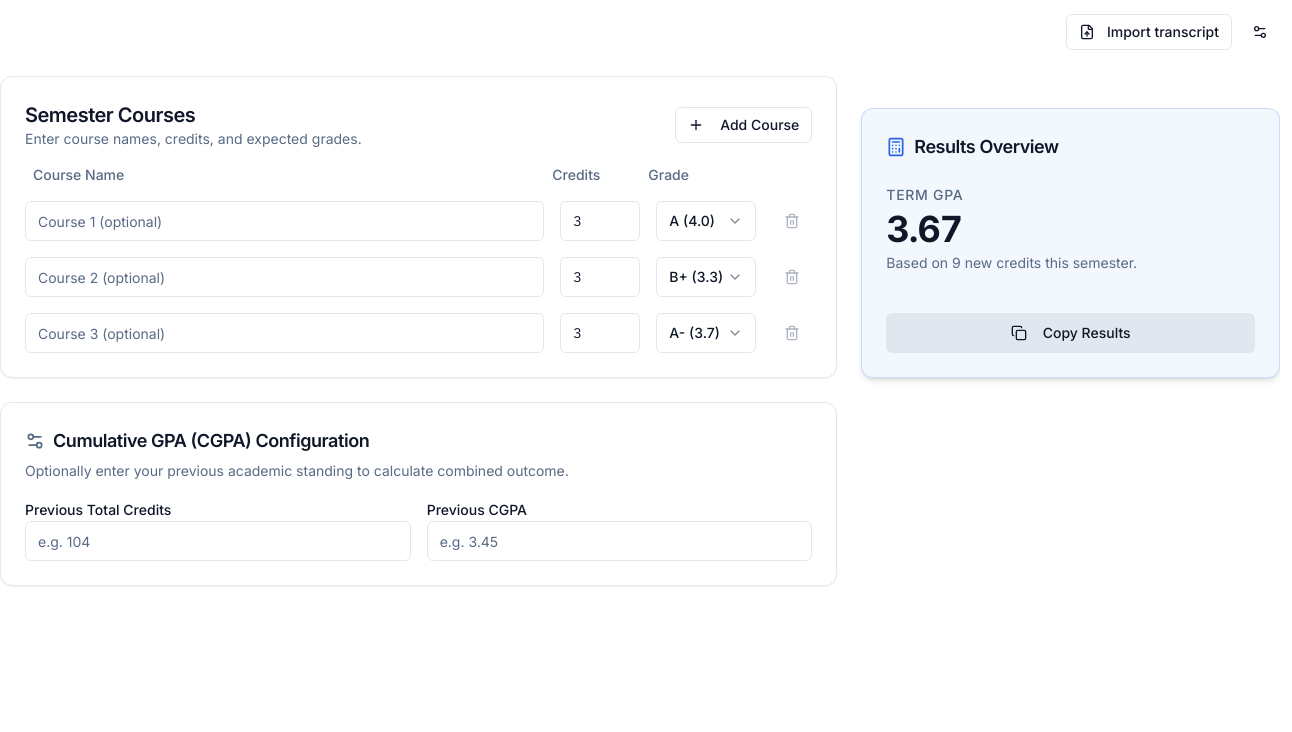
Scenario: GpaCalculator › updates GPA when grade is changed
This screenshot has width=1292, height=732.
# Change first course from A to F via shadcn Select
Click the dropdown named "Grade" at (706, 221), box [656,201,756,241]
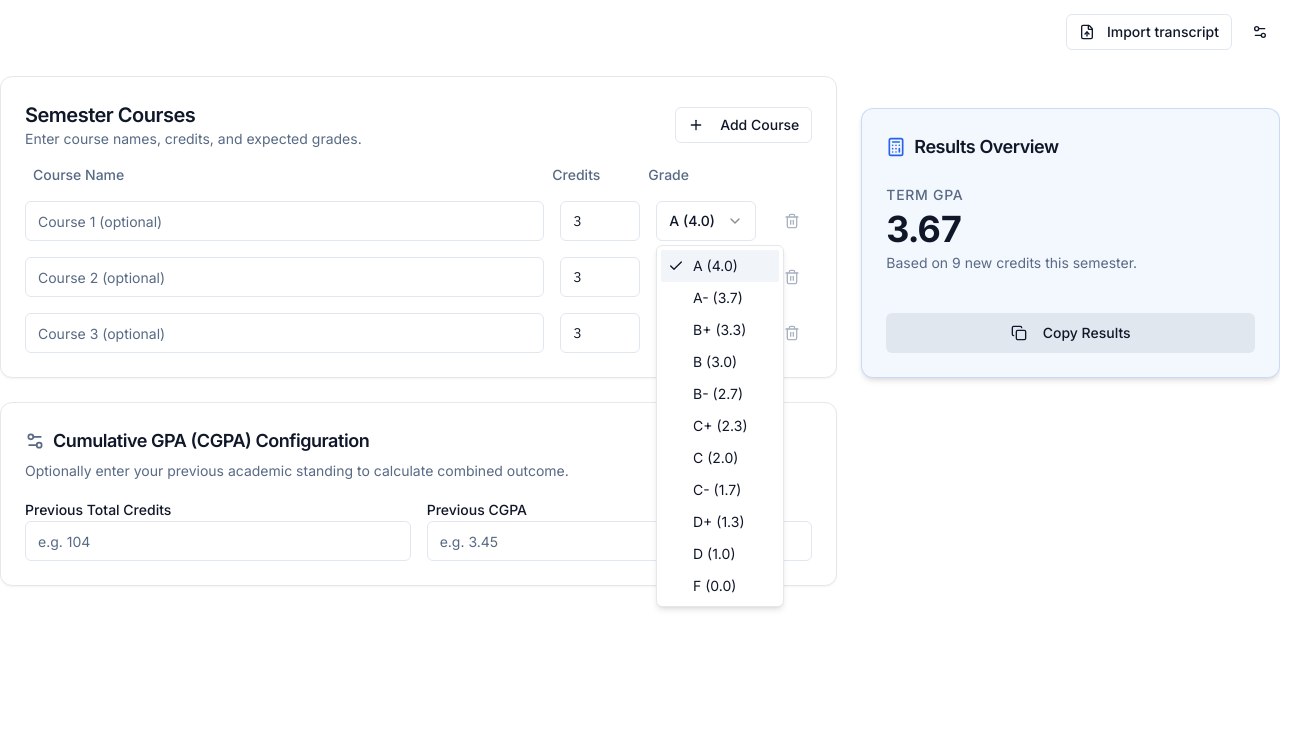
Expected: the list is shown, [656,245,784,607]
Click the option "F (0.0)" at (715, 586), box [693,577,736,594]
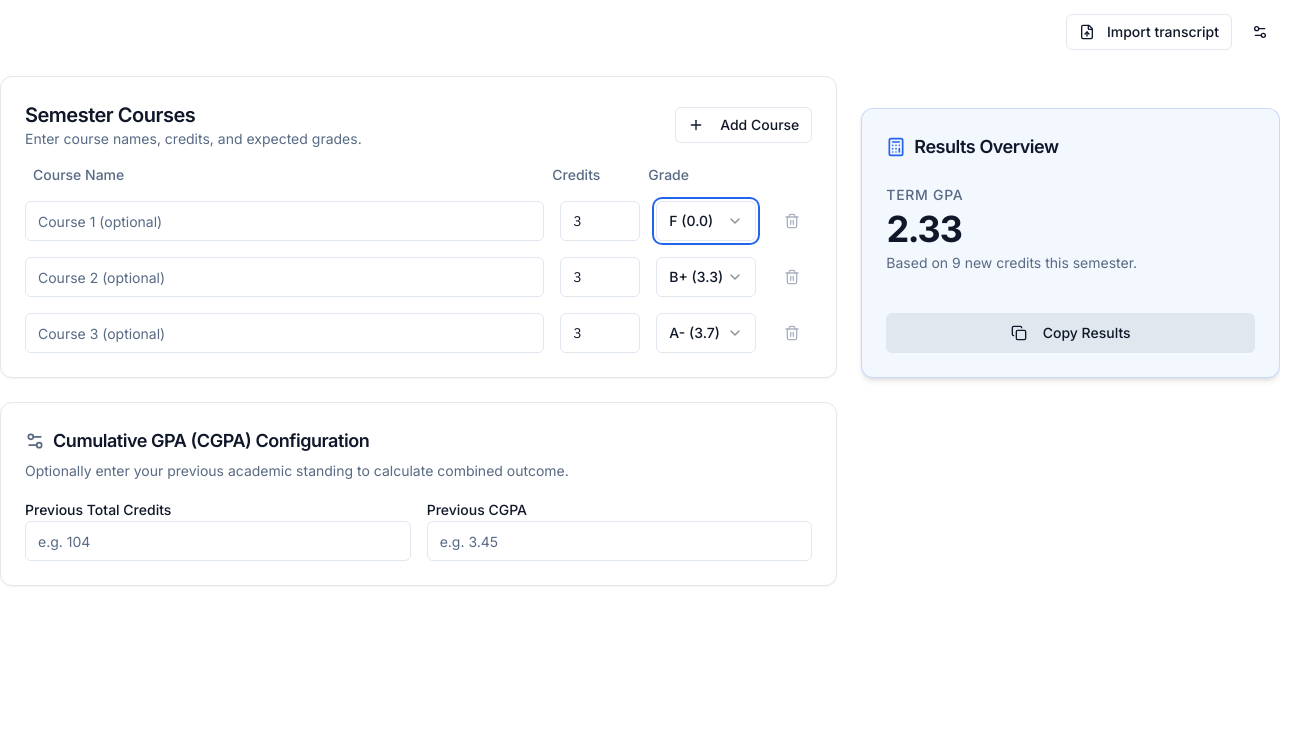
Expected: the text "2.33" is shown, [886,207,962,251]
